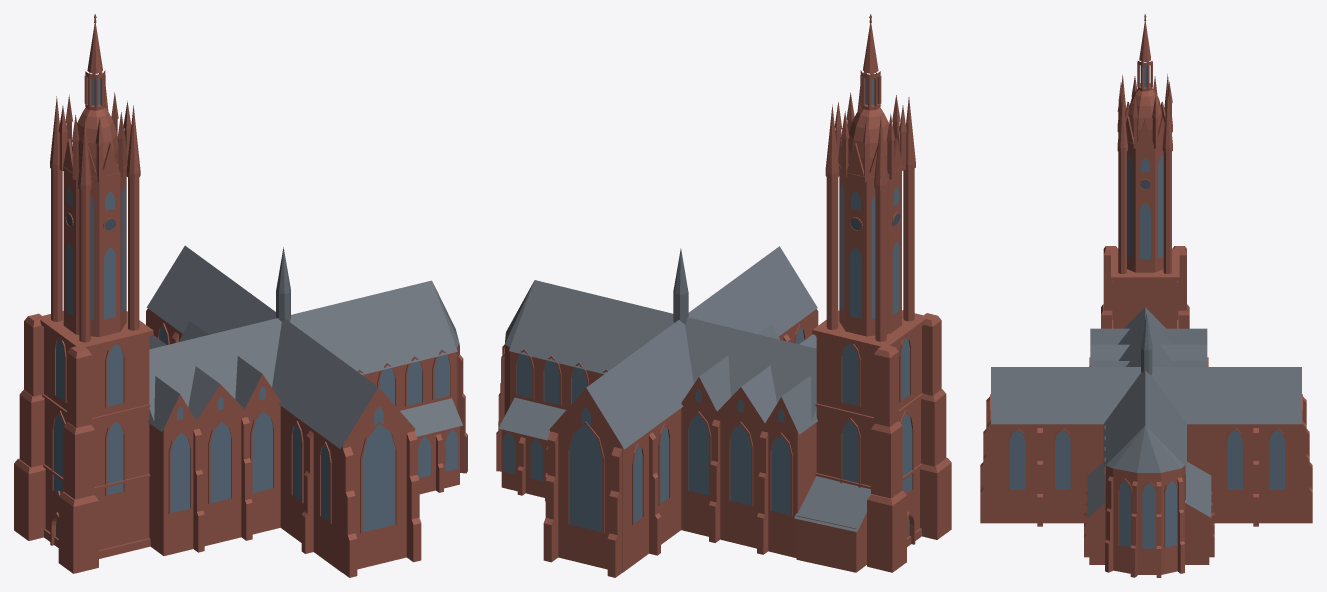
Rendered from frankfurt-dom.glb.
3 views of the same model, side by side, from view 1: azimuth 30°, elevation 25°; view 2: azimuth 150°, elevation 25°; view 3: azimuth 270°, elevation 25° (orthographic). The views are drawn at different scales.
Visible parts, largest first — view 1: Kaiserdom St. Bartholomäus; view 2: Kaiserdom St. Bartholomäus; view 3: Kaiserdom St. Bartholomäus.
Boxes of the visible parts, left/top/right/bottom form: Kaiserdom St. Bartholomäus: left=14, top=14, right=467, bottom=577; Kaiserdom St. Bartholomäus: left=496, top=14, right=951, bottom=577; Kaiserdom St. Bartholomäus: left=980, top=14, right=1312, bottom=577.
Size of the model in its own units: 78.44 by 95 by 67.9.
